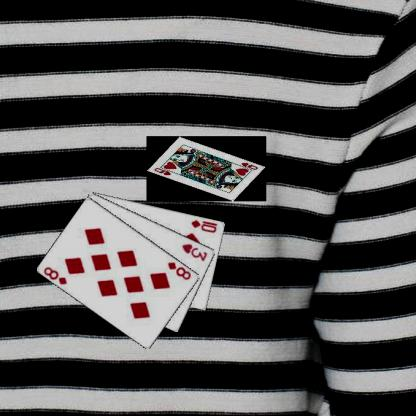10D: (189, 217, 218, 234)
3H: (180, 241, 209, 262)
8D: (41, 264, 68, 286), (165, 260, 193, 281)
